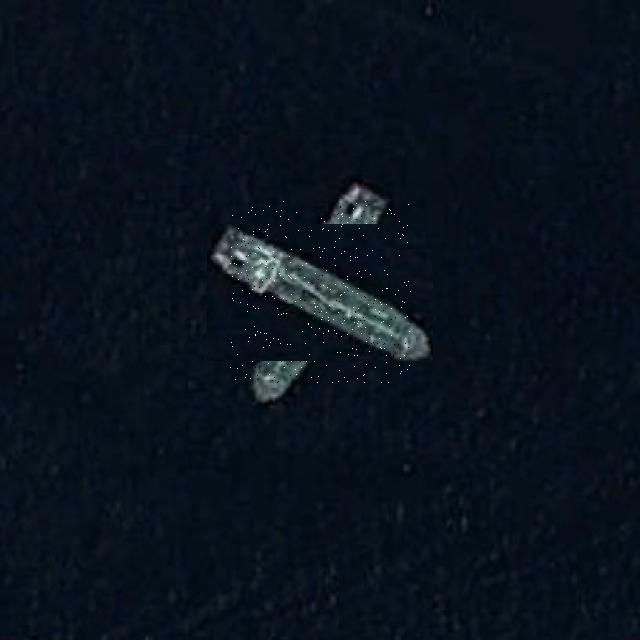boat: (229, 201, 411, 383)
